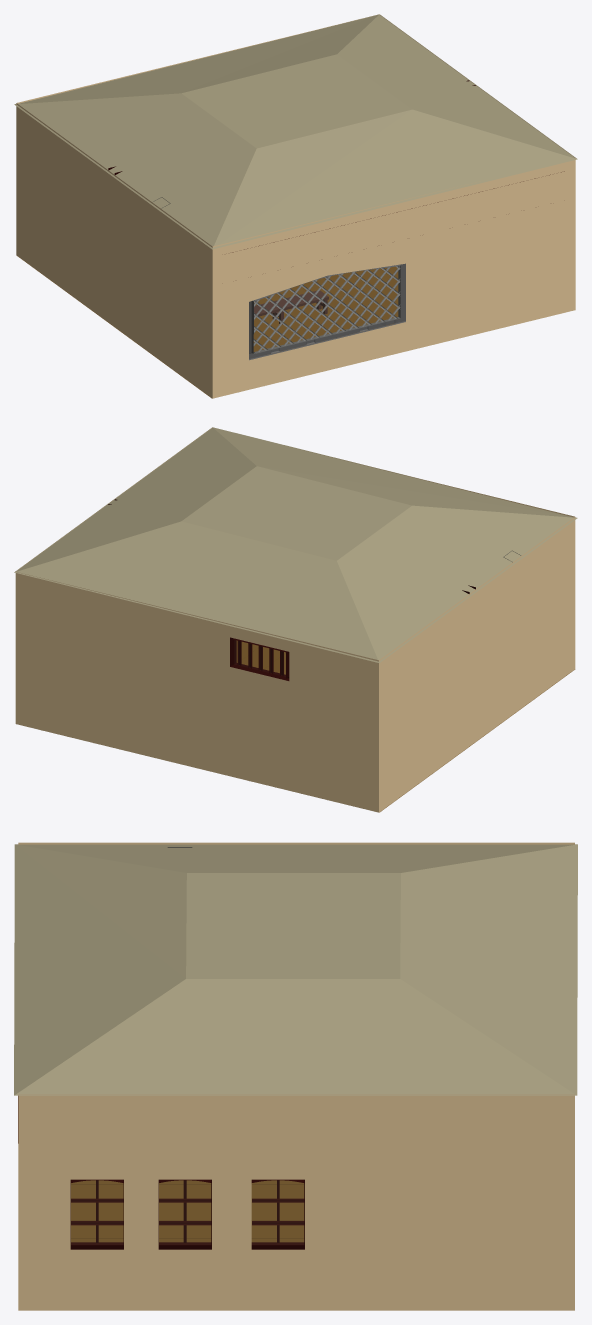
3 views of the same model, one above another, from view 1: azimuth 30°, elevation 25°; view 2: azimuth 150°, elevation 25°; view 3: azimuth 270°, elevation 25° (orthographic). The views are drawn at different scales.
Visible parts, largest first — view 1: merged; view 2: merged; view 3: merged.
Part boxes in pixels (left/top/right/bottom): merged: left=14, top=14, right=577, bottom=398; merged: left=14, top=427, right=577, bottom=812; merged: left=14, top=842, right=577, bottom=1310.
Bounding box in the file's own units: 13.52 × 6.46 × 12.72.
